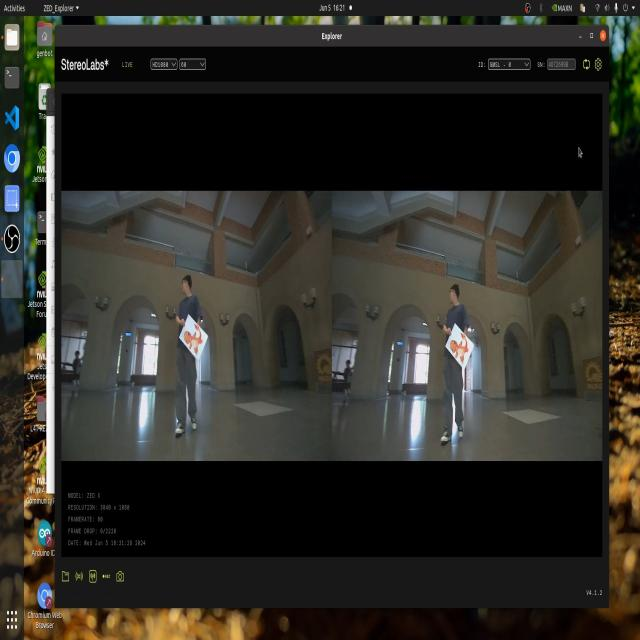red: (181, 318, 206, 359), (452, 345, 477, 368)
